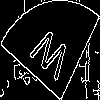W: (25, 25, 72, 90)
